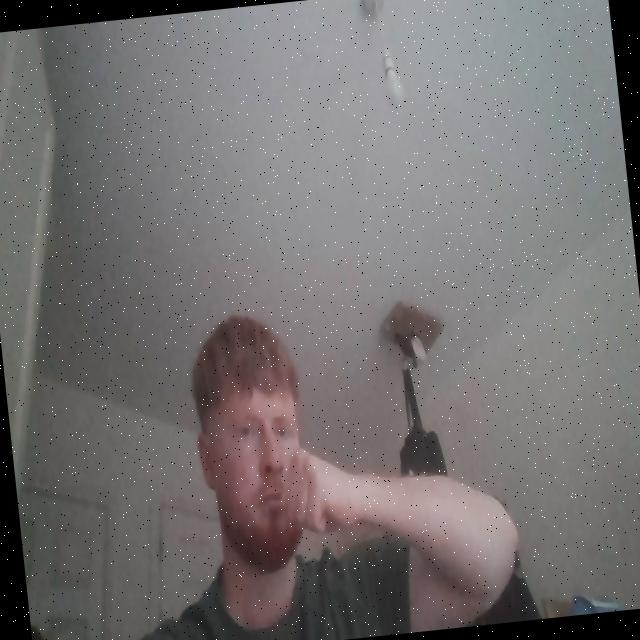rock: (276, 441, 361, 538)
